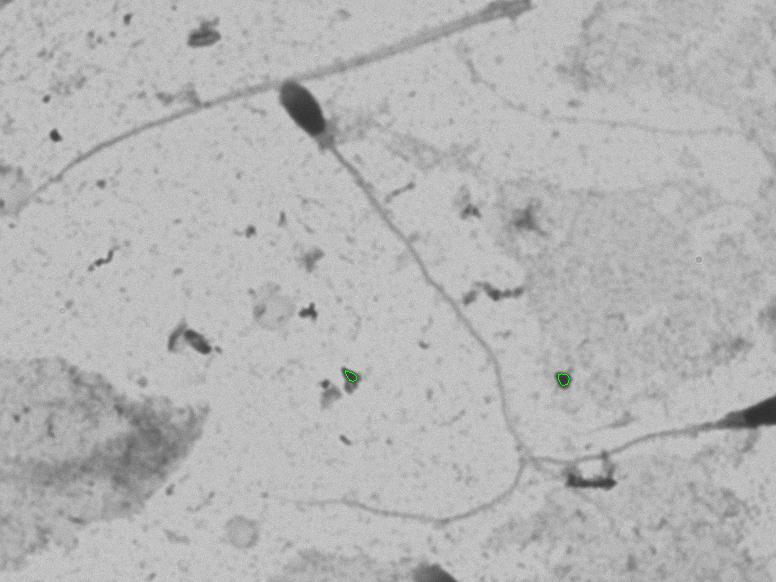Normal: (263, 70, 541, 538)
